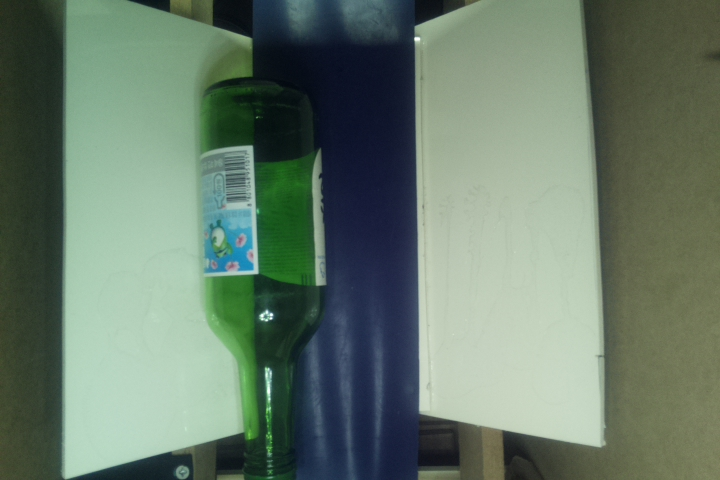soju: (200, 78, 334, 480)
